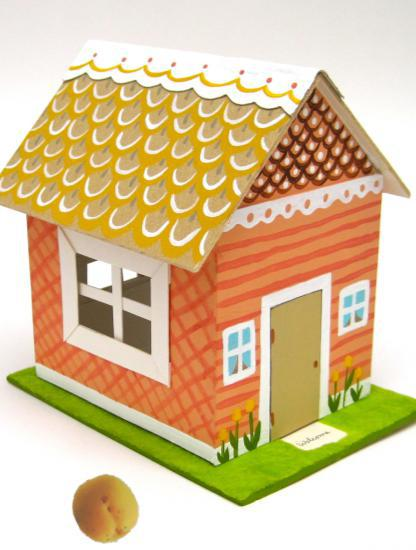Peach: (71, 475, 141, 545)
